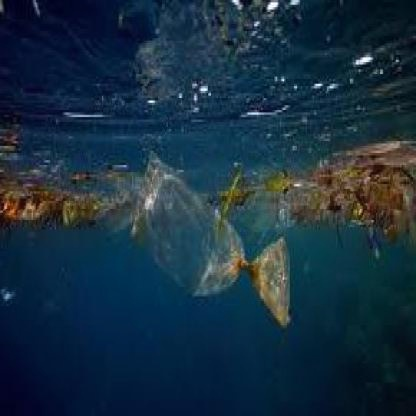pbag: (128, 148, 291, 330)
